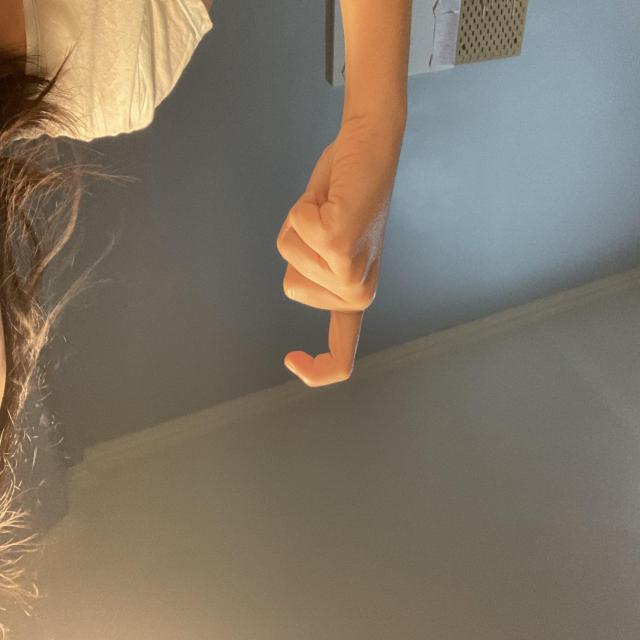X: (229, 252, 364, 523)
